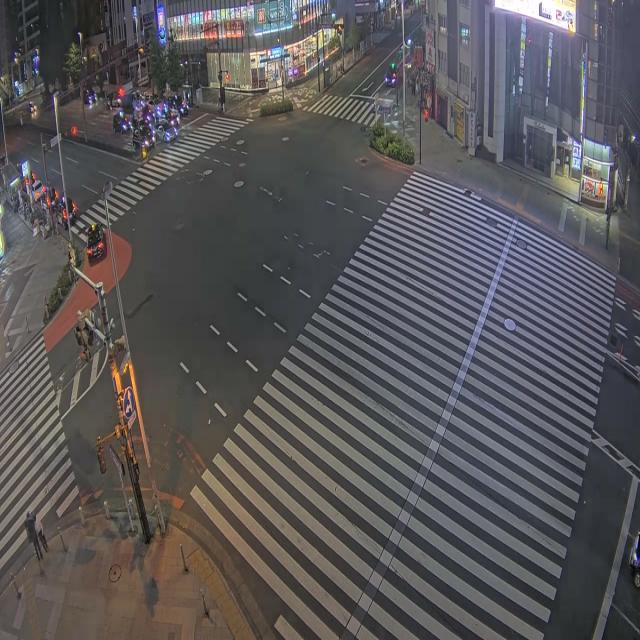car: (85, 224, 105, 262), (55, 196, 78, 227), (132, 127, 155, 149), (155, 120, 177, 142), (113, 111, 131, 132), (169, 96, 188, 115), (32, 180, 46, 202), (55, 203, 67, 228), (385, 63, 397, 87), (164, 107, 179, 126), (107, 92, 121, 108), (83, 89, 96, 106), (28, 102, 36, 114)
motorcycle: (630, 533, 639, 588)
